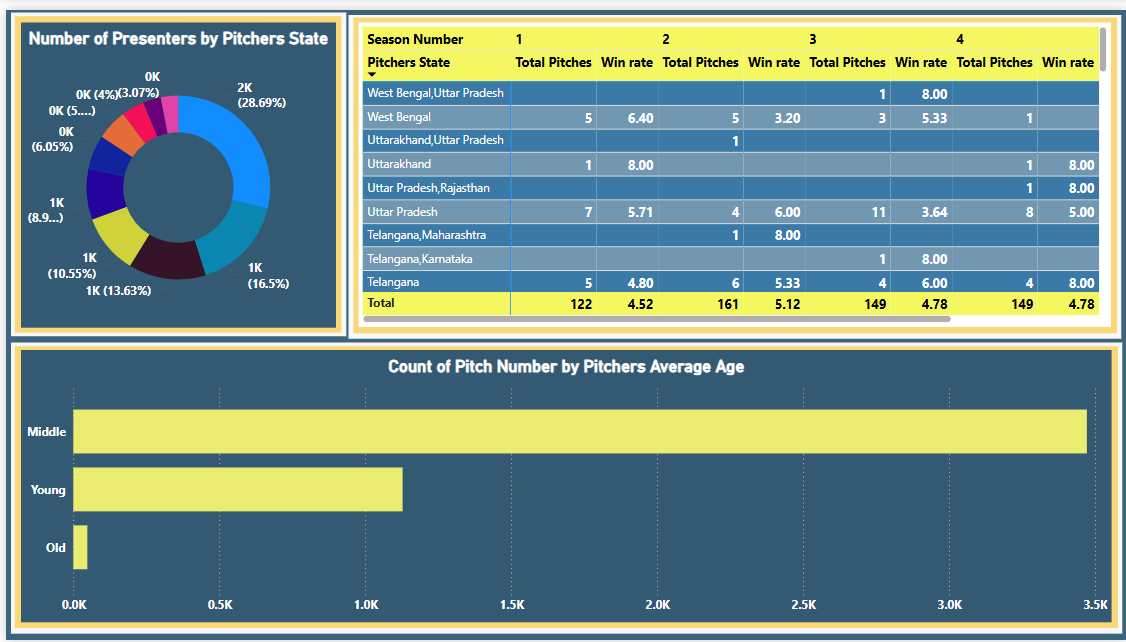

The page's visual inventory and layout, read from the dashboard file:
{"tool":"powerbi","page":{"name":"Pitcher demographics","canvas":[1280,720],"ordinal":2},"visuals":[{"type":"shape","box":[391.7,5,883.3,370],"z":0},{"type":"shape","box":[397.5,8.3,872.5,360.8],"z":1000},{"type":"actionButton","box":[11.7,16.7,50,40],"z":2000},{"type":"shape","box":[5,380,1270,333.1],"z":3000},{"type":"shape","box":[10,384.2,1260.8,322.1],"z":4000},{"type":"barChart","fields":{"Category":["Shark Tank India (2).Pitchers Average Age"],"Y":["Count(Shark Tank India (2).Pitch Number)"]},"box":[16.7,389.2,1246.7,310.8],"z":5000},{"type":"pivotTable","fields":{"Rows":["Shark Tank India (2).Pitchers State"],"Columns":["Shark Tank India (2).Season Number"],"Values":["Shark Tank India (2).Total Pitches","Shark Tank India (2).Win rate"]},"box":[403.3,14.2,860,348.3],"z":6000},{"type":"shape","box":[5,3.3,383.3,370],"z":7000},{"type":"shape","box":[10,6.7,373.3,361.7],"z":8000},{"type":"donutChart","title":"Top 10 states by Number of Presenters","fields":{"Category":["Shark Tank India (2).Pitchers State"],"Y":["Sum(Shark Tank India (2).Number of Presenters)"]},"box":[16.4,14.3,360,348.6],"z":9000}]}

Visuals, with their boxes in screenshot pixels (x1, y1, x2, y2), scaled from the page's 1280x720 canvas onto the 1126x642 screenshot:
shape: 345, 4, 1122, 334
shape: 350, 7, 1117, 329
actionButton: 10, 15, 54, 51
shape: 4, 339, 1122, 636
shape: 9, 343, 1118, 630
barChart - Shark Tank India (2).Pitchers Average Age x Count(Shark Tank India (2).Pitch Number): 15, 347, 1111, 624
pivotTable - Shark Tank India (2).Pitchers State x Shark Tank India (2).Season Number: 355, 13, 1111, 323
shape: 4, 3, 342, 333
shape: 9, 6, 337, 328
"Top 10 states by Number of Presenters" donutChart: 14, 13, 331, 324
